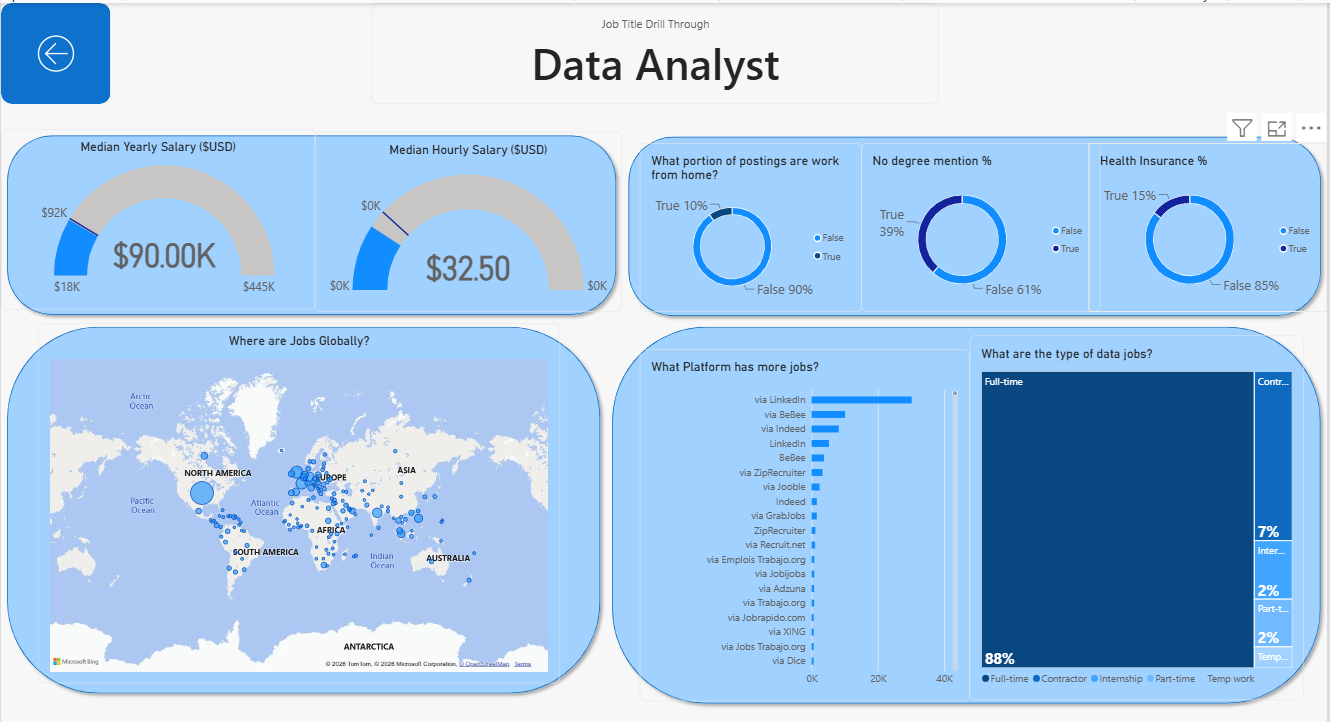

Layout of this report page (visuals, bound fields, positions):
{"tool":"powerbi","page":{"name":"Job Title Drill Through","canvas":[1920,1080],"ordinal":1},"visuals":[{"type":"shape","box":[0,183.7,899.5,277.6],"z":0,"group":"g1"},{"type":"group","id":"g1","title":"Background","box":[0,183.7,1920,841],"z":0},{"type":"cardVisual","fields":{"Data":["Min(job_postings_flat.job_title_short)1"]},"box":[536.3,0,822.3,146.1],"z":1000},{"type":"shape","box":[899.5,185.8,1020.5,277.6],"z":1000,"group":"g1"},{"type":"actionButton","box":[0,0,158.6,146.1],"z":2000},{"type":"shape","box":[0,461.3,876.5,548.9],"z":2000,"group":"g1"},{"type":"gauge","title":"Median Yearly Salary ($USD)","fields":{"MaxValue":["Max(job_postings_flat.salary_year_avg)2"],"MinValue":["Min(job_postings_flat.salary_year_avg)1"],"TargetValue":["Avg(job_postings_flat.salary_year_avg)3"],"Y":["Median(job_postings_flat.salary_year_avg)"]},"box":[0,183.7,455,260.9],"z":3000},{"type":"shape","box":[876.5,461.3,1043.5,563.5],"z":3000,"group":"g1"},{"type":"gauge","title":"Median Hourly Salary ($USD)","fields":{"MaxValue":["Max(job_postings_flat.salary_hour_avg)1"],"MinValue":["Min(job_postings_flat.salary_hour_avg)"],"TargetValue":["Avg(job_postings_flat.salary_hour_avg)2"],"Y":["Median(job_postings_flat.salary_hour_avg)3"]},"box":[455,185.7,444.5,260.9],"z":4000},{"type":"donutChart","title":"What portion of postings are work from home?","fields":{"Category":["job_postings_flat.job_work_from_home"],"Y":["CountNonNull(job_postings_flat.job_work_from_home)"]},"box":[924.5,202.4,321.4,244.2],"z":5000},{"type":"donutChart","title":"No degree mention %","fields":{"Category":["job_postings_flat.job_no_degree_mention"],"Y":["CountNonNull(job_postings_flat.job_no_degree_mention)"]},"box":[1245.9,202.4,346.4,244.2],"z":6000},{"type":"donutChart","title":"Health Insurance %","fields":{"Category":["job_postings_flat.job_health_insurance"],"Y":["CountNonNull(job_postings_flat.job_health_insurance)"]},"box":[1573.6,202.4,346.4,244.2],"z":7000},{"type":"map","title":"Where are Jobs Globally?","fields":{"Category":["job_postings_flat.job_country"],"Size":["CountNonNull(job_postings_flat.job_title_short)"]},"box":[54.3,463.3,755.5,521.7],"z":8000},{"type":"treemap","title":"What are the type of data jobs?","fields":{"Group":["job_postings_flat.job_schedule_type"],"Values":["CountNonNull(job_postings_flat.job_schedule_type)"]},"box":[1402.4,482.1,484.2,528],"z":9000},{"type":"barChart","title":"What Platform has more jobs?","fields":{"Category":["job_postings_flat.job_via"],"Y":["CountNonNull(job_postings_flat.job_via)"]},"box":[924.5,500.9,477.9,509.2],"z":10000}]}

Visuals, with their boxes on the page's 1920x1080 design canvas (x1, y1, x2, y2). These are canvas units, not pixel positions in the 1330x722 screenshot, which may show the page scaled, cropped or inside an application window:
shape: (left=0, top=184, right=900, bottom=461)
"Background" group: (left=0, top=184, right=1920, bottom=1025)
cardVisual - Min(job_postings_flat.job_title_short)1: (left=536, top=0, right=1359, bottom=146)
shape: (left=900, top=186, right=1920, bottom=463)
actionButton: (left=0, top=0, right=159, bottom=146)
shape: (left=0, top=461, right=876, bottom=1010)
"Median Yearly Salary ($USD)" gauge: (left=0, top=184, right=455, bottom=445)
shape: (left=876, top=461, right=1920, bottom=1025)
"Median Hourly Salary ($USD)" gauge: (left=455, top=186, right=900, bottom=447)
"What portion of postings are work from home?" donutChart: (left=924, top=202, right=1246, bottom=447)
"No degree mention %" donutChart: (left=1246, top=202, right=1592, bottom=447)
"Health Insurance %" donutChart: (left=1574, top=202, right=1920, bottom=447)
"Where are Jobs Globally?" map: (left=54, top=463, right=810, bottom=985)
"What are the type of data jobs?" treemap: (left=1402, top=482, right=1887, bottom=1010)
"What Platform has more jobs?" barChart: (left=924, top=501, right=1402, bottom=1010)
